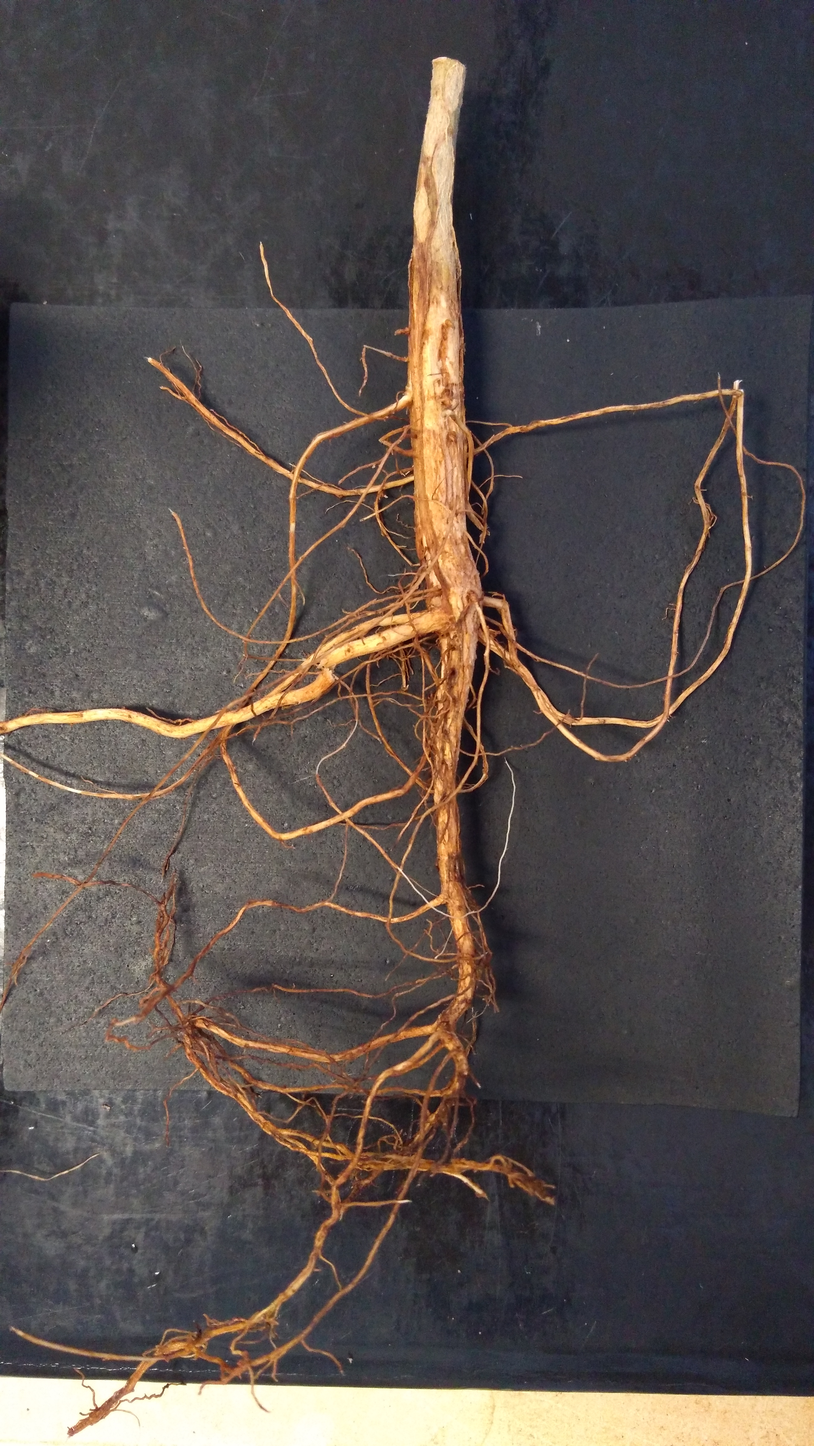nodule: (482, 628, 502, 645), (394, 327, 410, 336), (371, 463, 376, 469)
